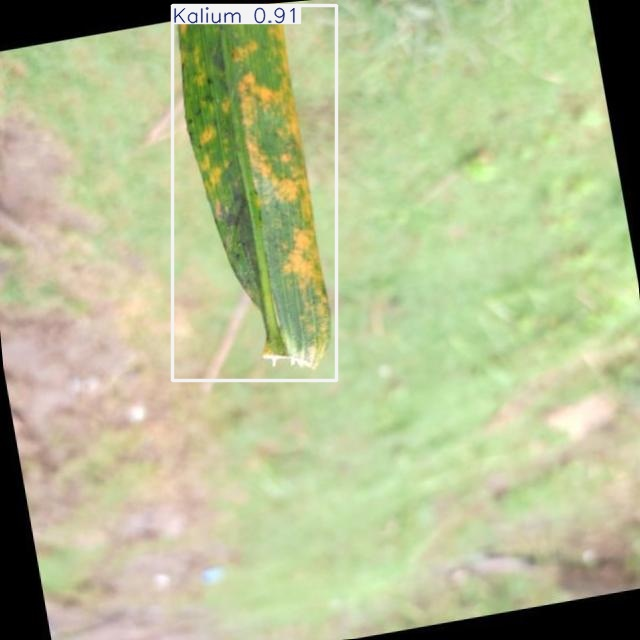Kalium: (172, 5, 336, 380)
